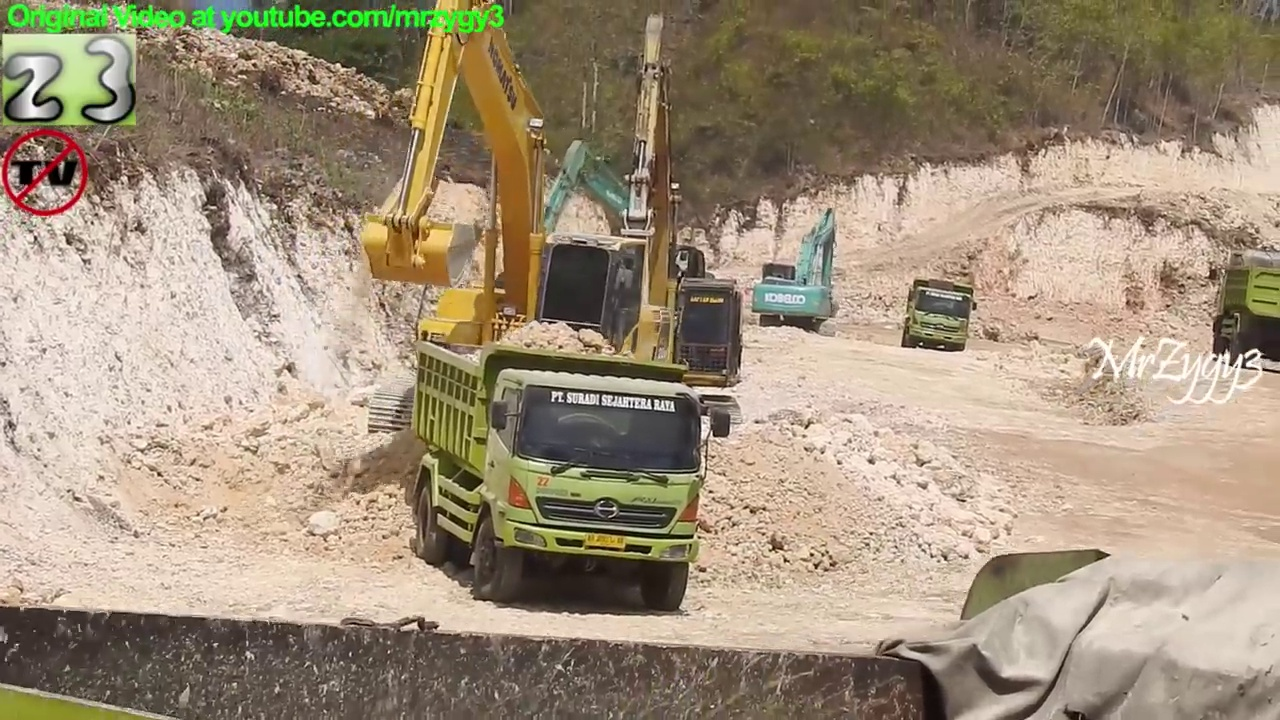excavator: (357, 2, 688, 458), (438, 10, 747, 440), (748, 207, 843, 334)
truck: (1, 544, 1280, 716), (403, 336, 736, 617), (1205, 251, 1280, 363), (900, 276, 978, 357)
